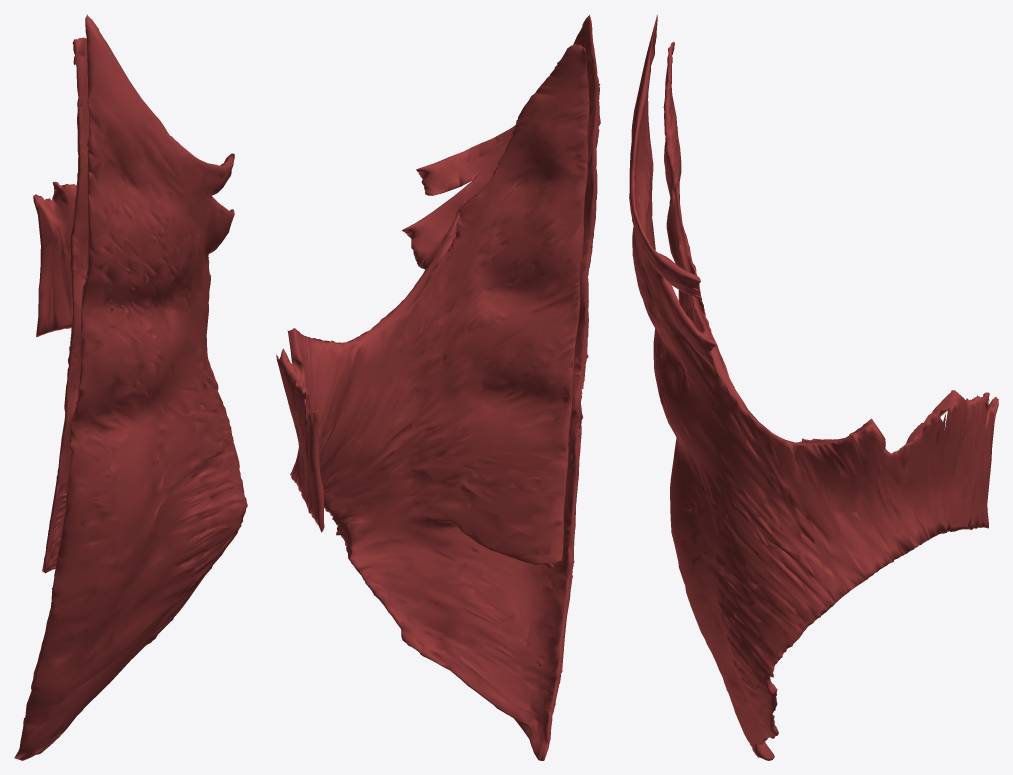
The model's file is internal-abdominal-oblique-muscle-l.glb.
3 renders of one model, left to right at view 1: azimuth 30°, elevation 25°; view 2: azimuth 150°, elevation 25°; view 3: azimuth 270°, elevation 25°, orthographic. The views are drawn at different scales.
Visible parts, largest first — view 1: Internal abdominal oblique muscle.l; view 2: Internal abdominal oblique muscle.l; view 3: Internal abdominal oblique muscle.l.
Boxes of the visible parts, <box> form: Internal abdominal oblique muscle.l: <box>14,14,247,760</box>; Internal abdominal oblique muscle.l: <box>276,14,600,760</box>; Internal abdominal oblique muscle.l: <box>629,14,998,760</box>.
Size of the model in its own units: 0.1245 by 0.3917 by 0.1754.
